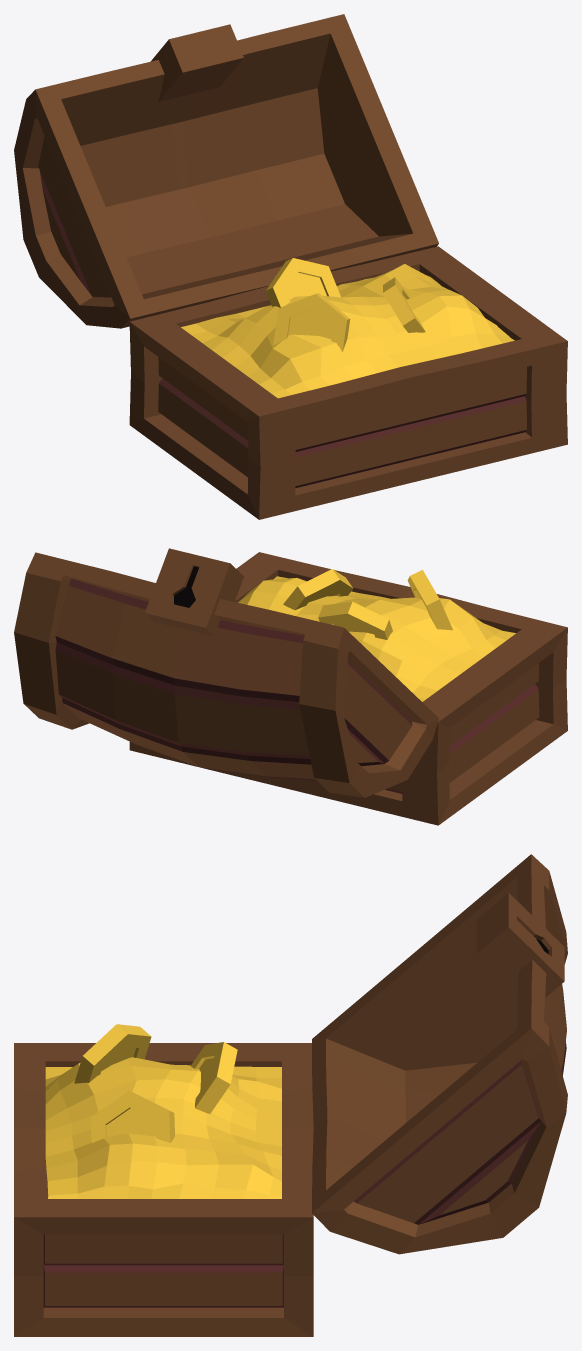
The model's file is BauP.fbx.
3 renders of one model, top to bottom at view 1: azimuth 30°, elevation 25°; view 2: azimuth 150°, elevation 25°; view 3: azimuth 270°, elevation 25°, orthographic. The views are drawn at different scales.
Visible parts, largest first — view 1: chest bottom; view 2: chest bottom; view 3: chest bottom.
Part boxes in pixels (x1,y1,x2,y2): chest bottom: (14, 14, 567, 519); chest bottom: (14, 548, 567, 825); chest bottom: (14, 854, 567, 1336).
Bounding box in the file's own units: 135 × 117 × 172.
